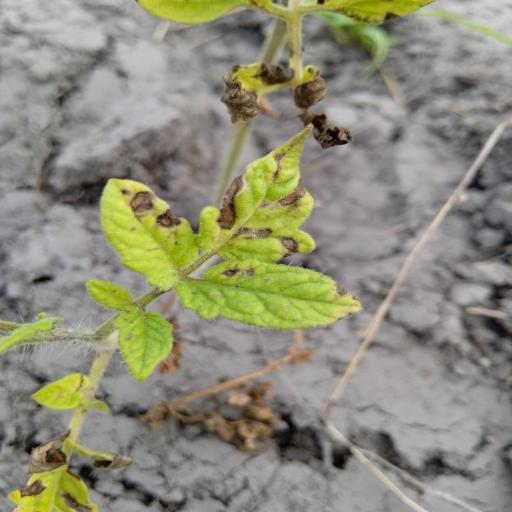Tomato_Brown_Spots: (197, 127, 320, 269), (176, 258, 369, 330), (98, 174, 204, 292)
